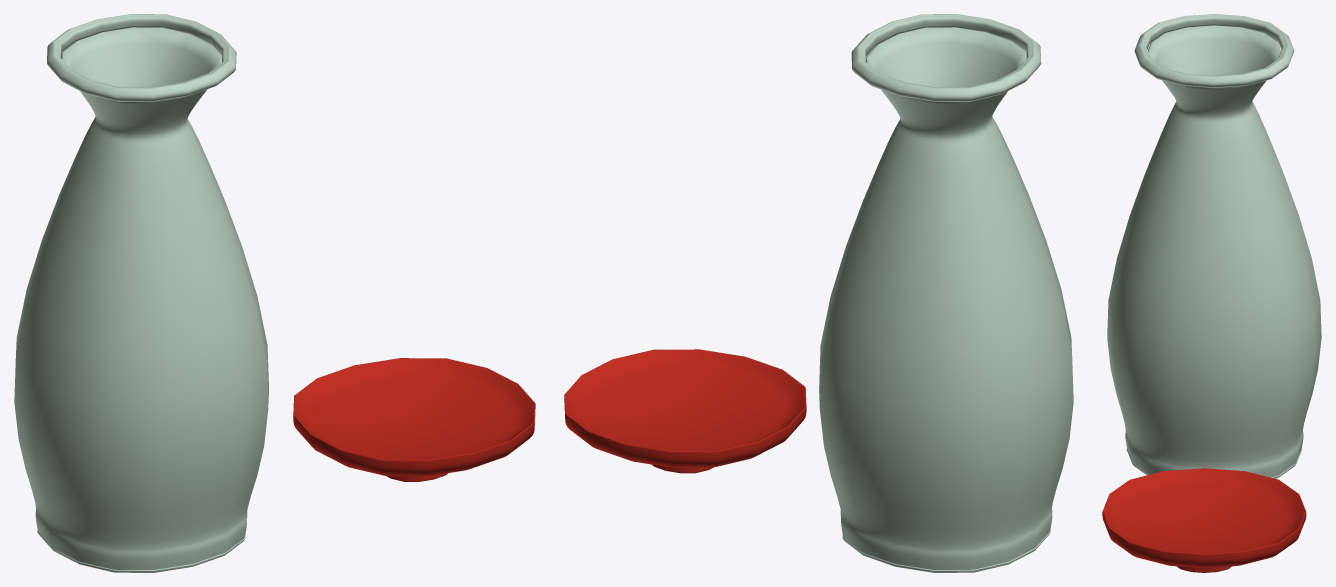
File: tokkuri.fbx
The picture shows the model from 3 angles, left to right: view 1: azimuth 30°, elevation 25°; view 2: azimuth 150°, elevation 25°; view 3: azimuth 270°, elevation 25°; orthographic projection. The views are drawn at different scales.
Parts seen in each view (by area): view 1: Cube, Cube.001; view 2: Cube, Cube.001; view 3: Cube, Cube.001.
Boxes of the visible parts, x1,y1,x2,y2 form: Cube: (14, 14, 268, 572); Cube.001: (293, 358, 535, 481); Cube: (819, 14, 1073, 572); Cube.001: (564, 349, 806, 473); Cube: (1107, 14, 1321, 478); Cube.001: (1102, 468, 1306, 572).
Bounding box in the file's own units: 185 × 176 × 86.18.
